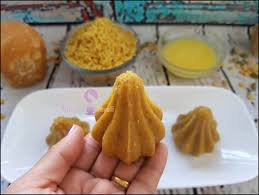modak: (100, 73, 164, 160), (176, 107, 214, 156)
